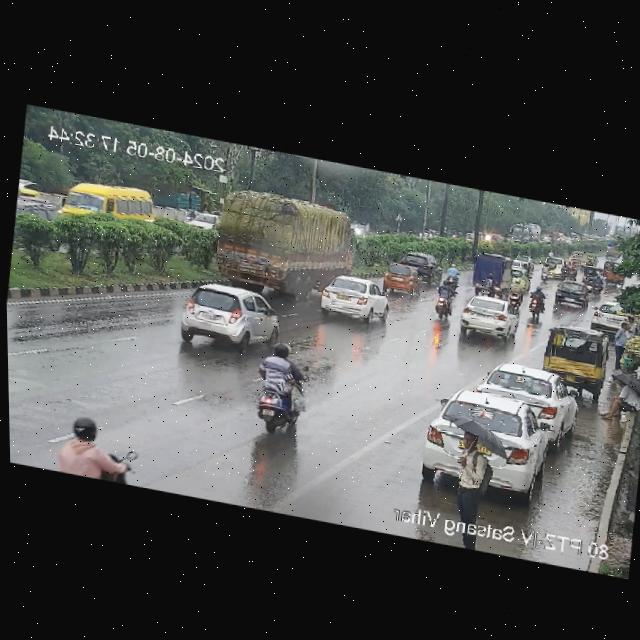bus: (53, 171, 161, 234)
car: (430, 385, 555, 478), (171, 274, 289, 358), (476, 358, 577, 434), (313, 268, 398, 329), (540, 320, 611, 386), (455, 291, 521, 346), (14, 185, 64, 230), (590, 297, 633, 334), (383, 261, 422, 296), (552, 278, 592, 310), (411, 251, 441, 282), (507, 265, 531, 291), (541, 253, 565, 276), (514, 255, 531, 271)
motorcycle: (46, 402, 145, 486), (248, 335, 315, 440), (427, 281, 456, 320), (574, 263, 604, 290), (526, 285, 548, 319), (559, 258, 582, 284), (444, 262, 459, 292), (508, 277, 523, 306)
person: (442, 424, 492, 526), (594, 374, 640, 427), (606, 316, 638, 368), (627, 316, 638, 334)
truck: (207, 182, 365, 313), (470, 249, 512, 297), (482, 272, 498, 296)
